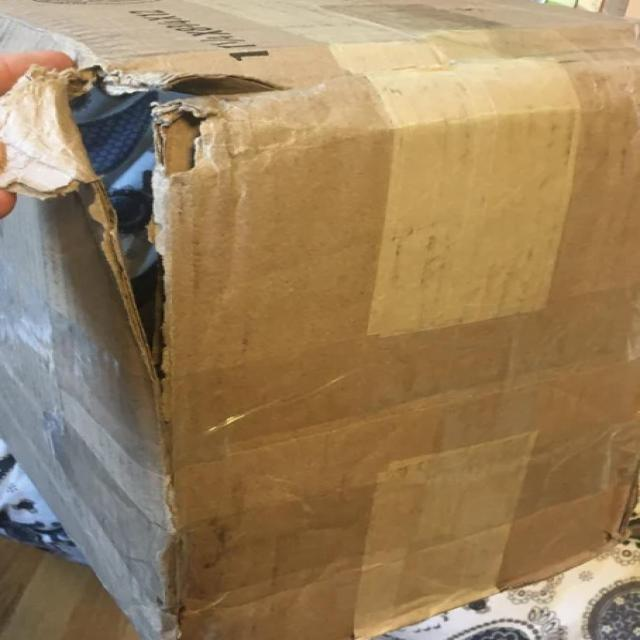damaged: (34, 61, 292, 388)
